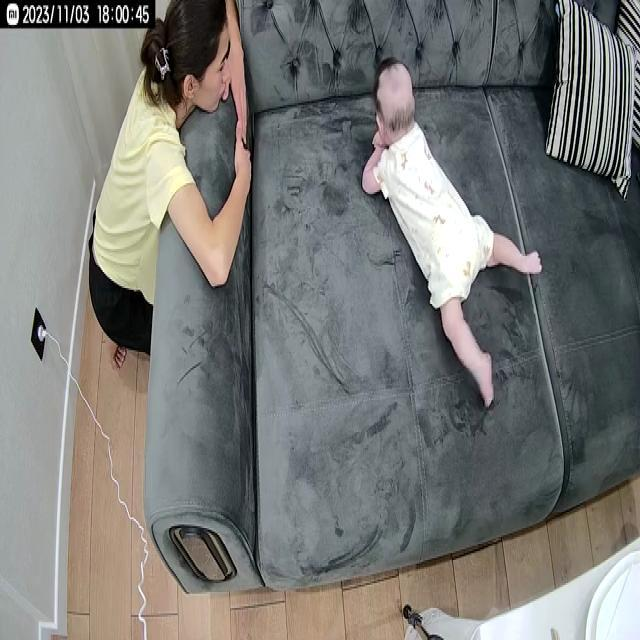baby: (360, 53, 544, 411)
